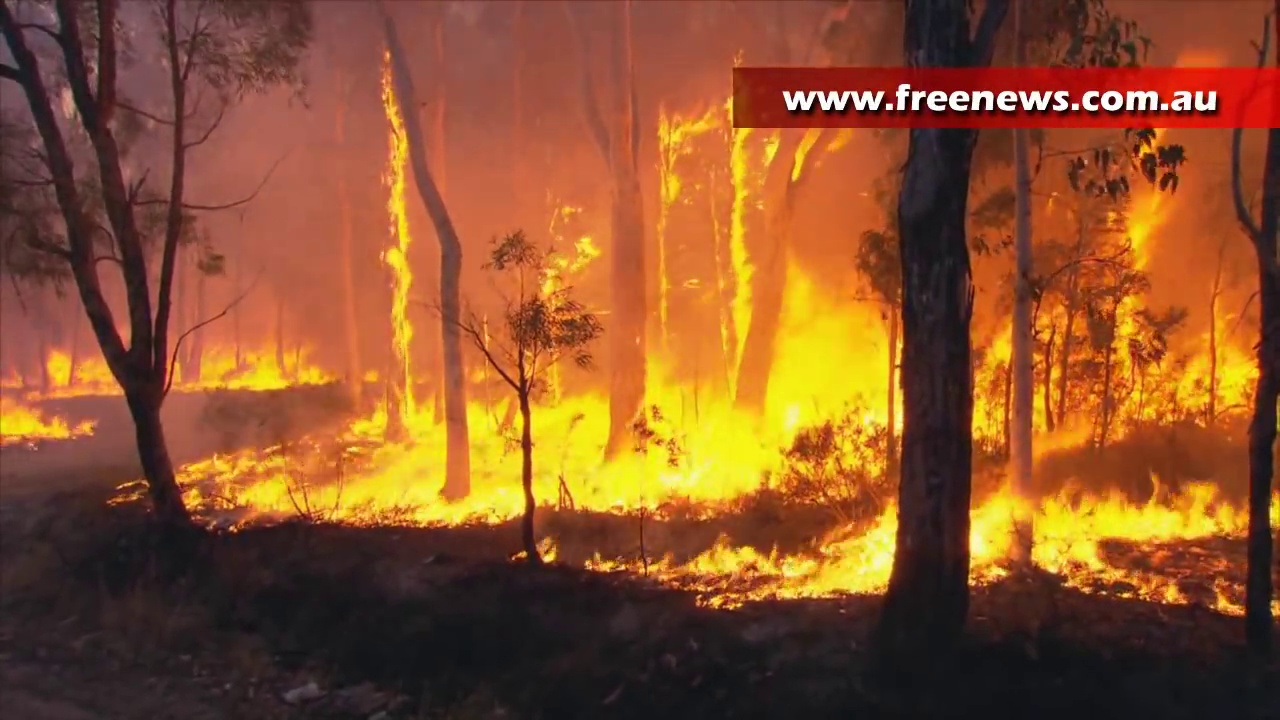fire: (181, 397, 746, 519), (967, 485, 1243, 605), (691, 522, 887, 602), (1112, 333, 1249, 422), (386, 89, 410, 363), (185, 344, 304, 391), (651, 108, 697, 198), (730, 189, 752, 336), (2, 413, 93, 443), (49, 351, 108, 386), (728, 125, 781, 157), (569, 230, 601, 269)
